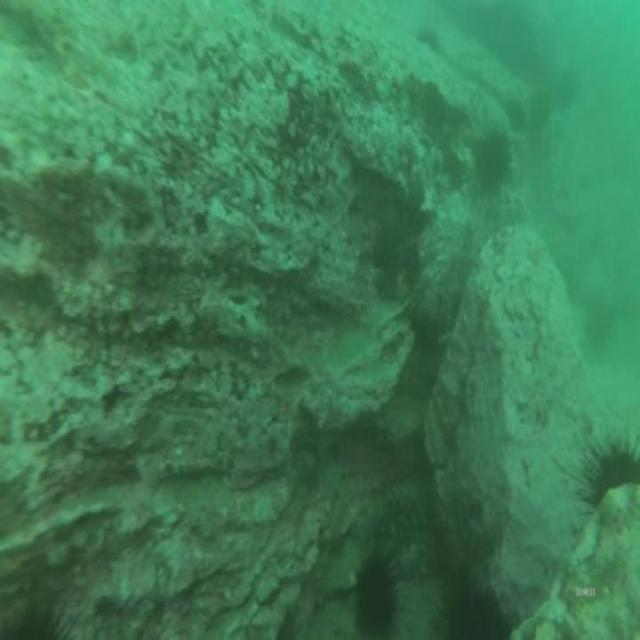echinus: (578, 418, 640, 532), (430, 572, 515, 640), (350, 547, 402, 640), (476, 123, 514, 198), (526, 84, 554, 134), (501, 96, 528, 138), (414, 22, 444, 55)
holothurian: (354, 477, 434, 561), (389, 526, 451, 583)
